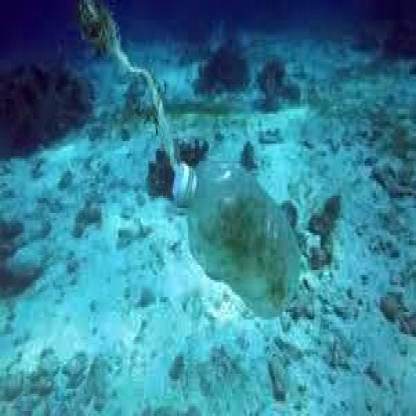pbottle: (159, 142, 314, 324)
